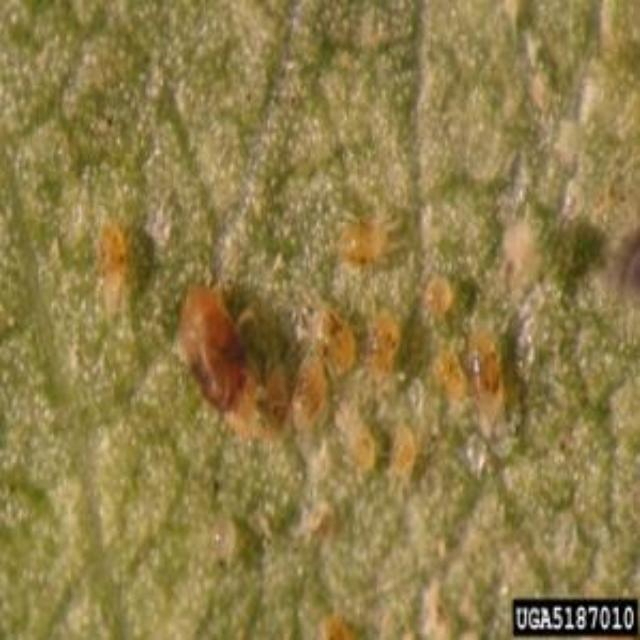spider mite: (180, 281, 274, 429), (99, 218, 178, 310), (454, 315, 518, 425), (332, 214, 398, 290), (324, 384, 378, 474), (600, 218, 640, 318), (300, 315, 368, 369), (405, 270, 463, 332), (287, 367, 341, 427), (374, 412, 414, 493), (364, 310, 408, 378), (308, 596, 366, 640), (431, 347, 465, 413)
